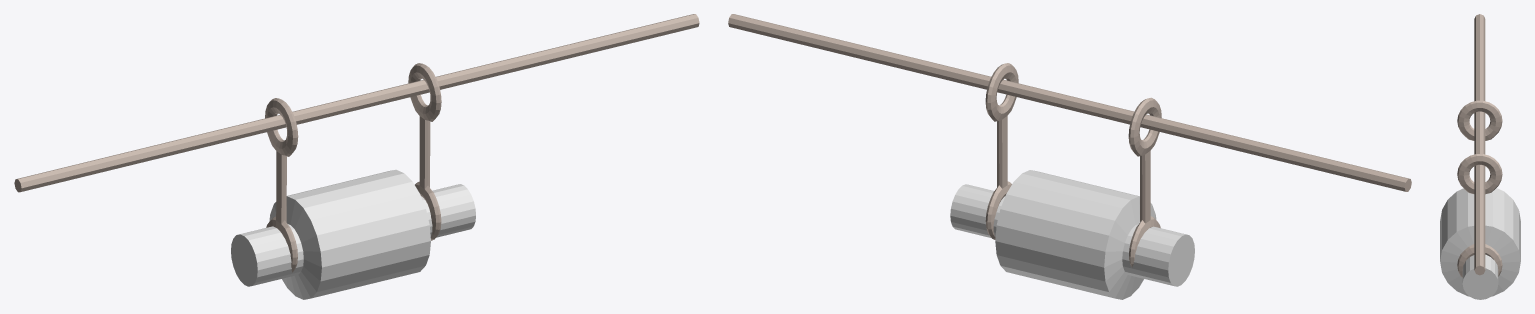
Rendered from meathang.fbx.
The picture shows the model from 3 angles, left to right: view 1: azimuth 30°, elevation 25°; view 2: azimuth 150°, elevation 25°; view 3: azimuth 270°, elevation 25°; orthographic projection. The views are drawn at different scales.
Visible parts, largest first — view 1: Cylinder.003, Torus; view 2: Cylinder.003, Torus; view 3: Cylinder.003, Torus.
Boxes of the visible parts, x1,y1,x2,y2 form: Cylinder.003: [231, 169, 475, 299]; Torus: [14, 14, 699, 272]; Cylinder.003: [950, 170, 1194, 299]; Torus: [728, 14, 1411, 267]; Cylinder.003: [1440, 188, 1520, 299]; Torus: [1457, 14, 1502, 277].
Size of the model in its own units: 2072 by 583 by 282.
